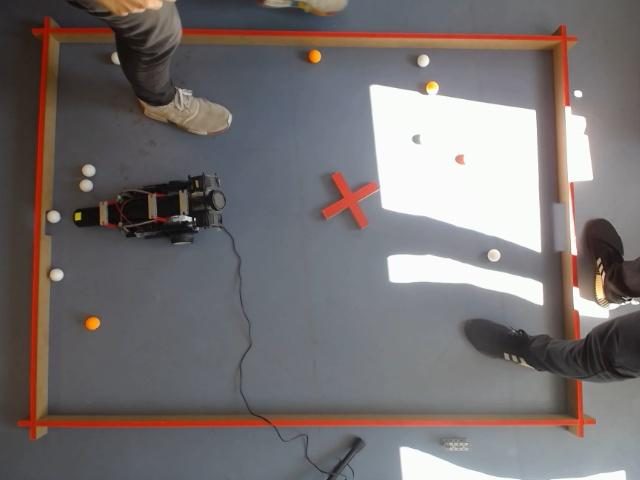orange: (306, 48, 322, 66), (424, 80, 439, 96), (85, 316, 101, 330)
robot: (72, 173, 226, 244)
robot-front: (73, 208, 97, 227)
white: (486, 247, 502, 265), (48, 268, 66, 284), (46, 209, 61, 224), (416, 53, 430, 69), (82, 165, 96, 176), (80, 180, 93, 191), (112, 52, 120, 65)
